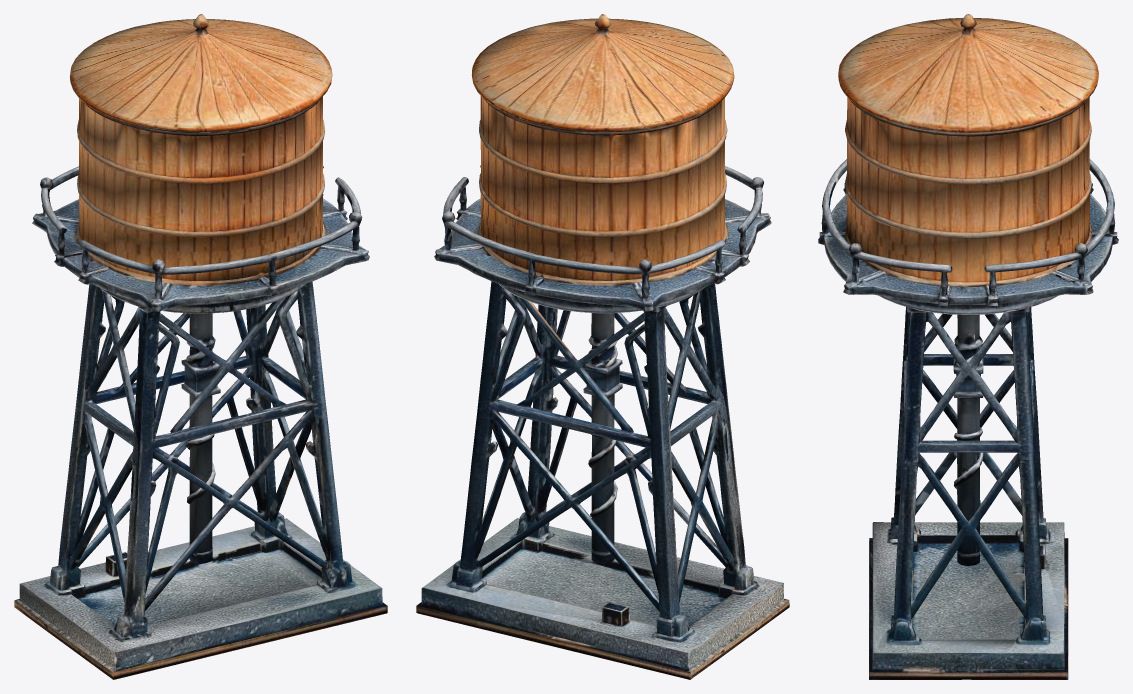
File: tower.glb
The picture shows the model from 3 angles, left to right: view 1: azimuth 30°, elevation 25°; view 2: azimuth 150°, elevation 25°; view 3: azimuth 270°, elevation 25°; orthographic projection.
Parts seen in each view (by area): view 1: tower; view 2: tower; view 3: tower.
Boxes of the visible parts, x1,y1,x2,y2 form: tower: (14,14,387,679); tower: (416,14,789,679); tower: (818,14,1118,679).
Size of the model in its own units: 0.4819 by 1 by 0.454.
1 material, 1 textured.
